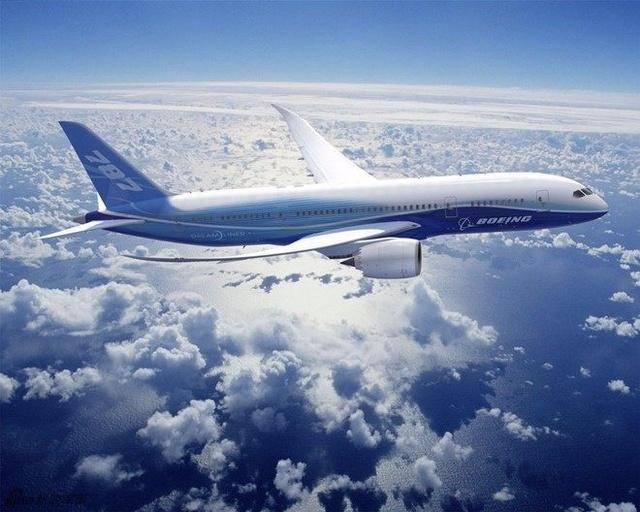airplane: (48, 105, 613, 281)
